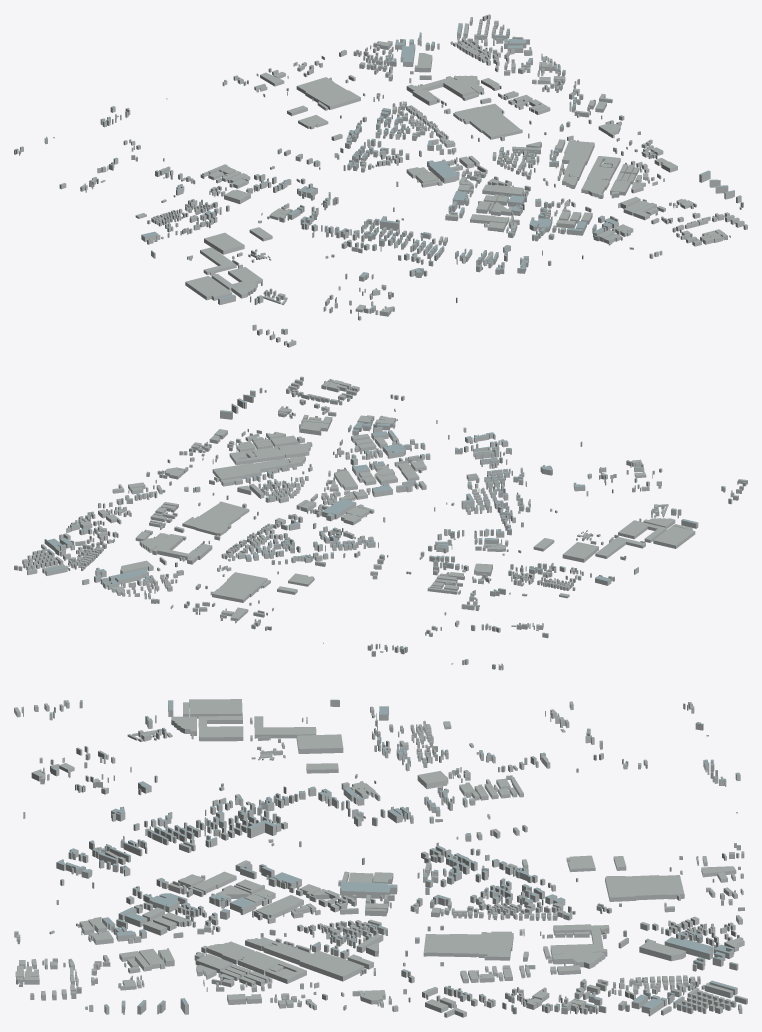
File: far.glb
The picture shows the model from 3 angles, top to bottom: view 1: azimuth 30°, elevation 25°; view 2: azimuth 150°, elevation 25°; view 3: azimuth 270°, elevation 25°; orthographic projection. The views are drawn at different scales.
Size of the model in its own units: 2138 by 30.36 by 2110.
